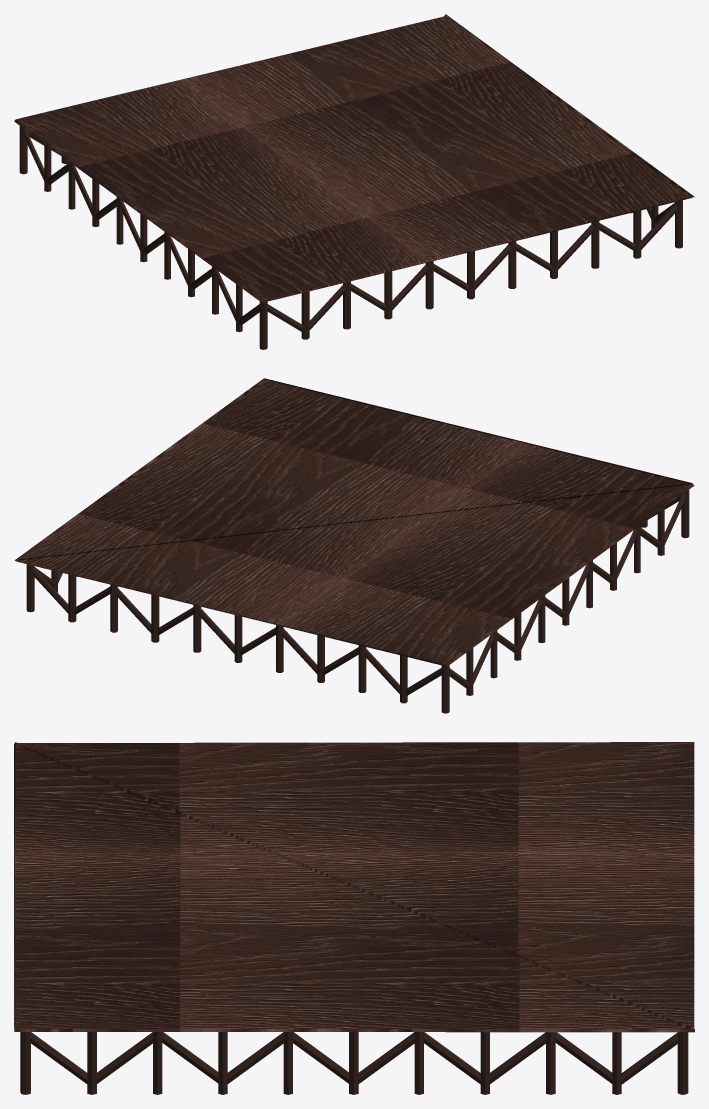
The model's file is Escenario.obj.
3 views of the same model, one above another, from view 1: azimuth 30°, elevation 25°; view 2: azimuth 150°, elevation 25°; view 3: azimuth 270°, elevation 25° (orthographic). The views are drawn at different scales.
Visible parts, largest first — view 1: Ecenario_Concert_Stage001; view 2: Ecenario_Concert_Stage001; view 3: Ecenario_Concert_Stage001.
Part boxes in pixels (box(x1,y1,x2,y2)): Ecenario_Concert_Stage001: box(14, 14, 694, 349); Ecenario_Concert_Stage001: box(14, 378, 694, 713); Ecenario_Concert_Stage001: box(14, 742, 694, 1094).
Bounding box in the file's own units: 24.8 × 2.81 × 24.63.
